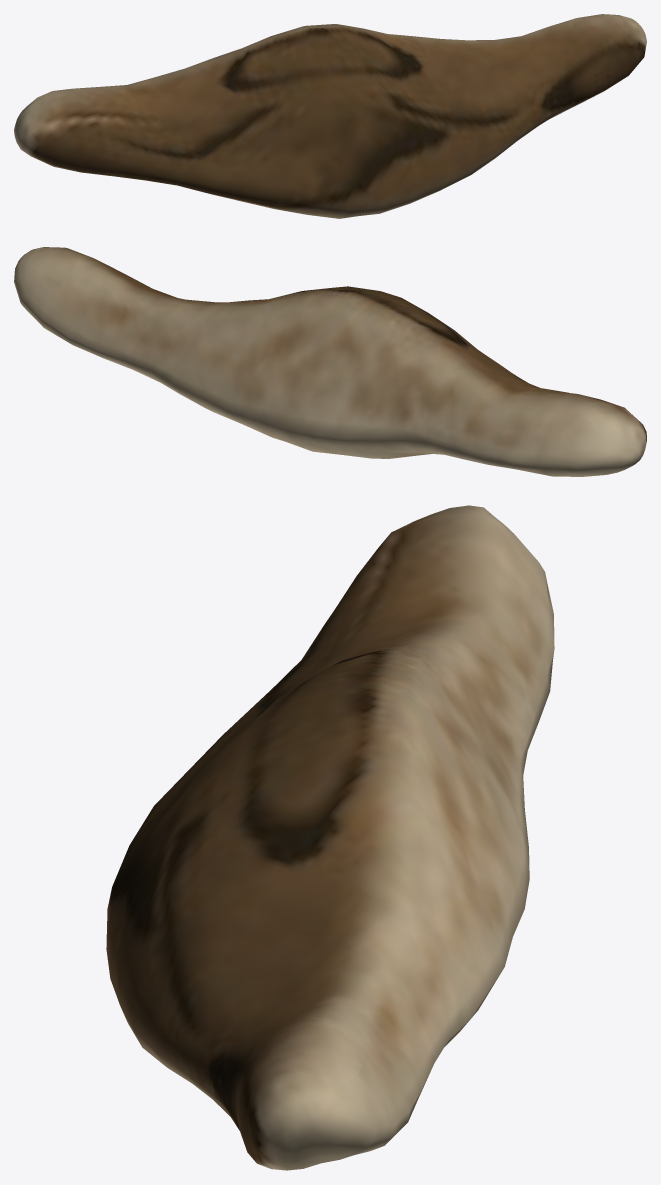
File: Navicular.glb
3 renders of one model, top to bottom at view 1: azimuth 30°, elevation 25°; view 2: azimuth 150°, elevation 25°; view 3: azimuth 270°, elevation 25°, orthographic. The views are drawn at different scales.
Visible parts, largest first — view 1: L_Frt_Navicular; view 2: L_Frt_Navicular; view 3: L_Frt_Navicular.
Part boxes in pixels (<box>): L_Frt_Navicular: <box>14,14,646,218</box>; L_Frt_Navicular: <box>14,247,646,476</box>; L_Frt_Navicular: <box>106,505,554,1170</box>.
Bounding box in the file's own units: 0.0478 × 0.0119 × 0.0159.
1 material, 1 textured.
